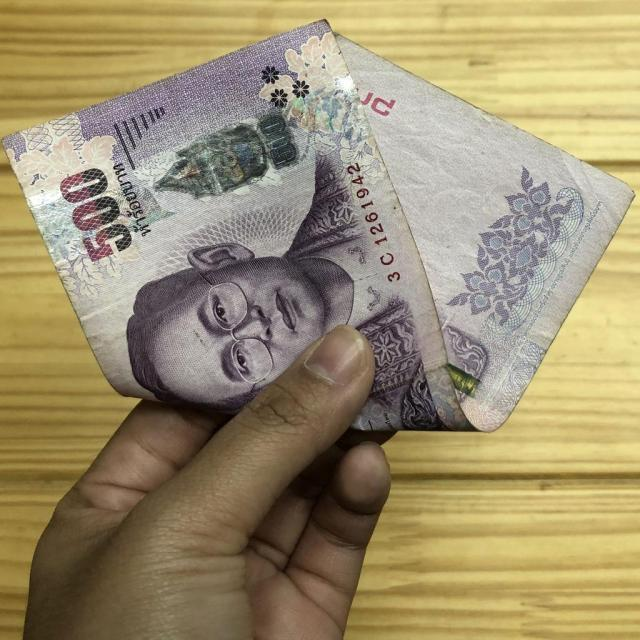THAI500: (4, 20, 629, 431)
